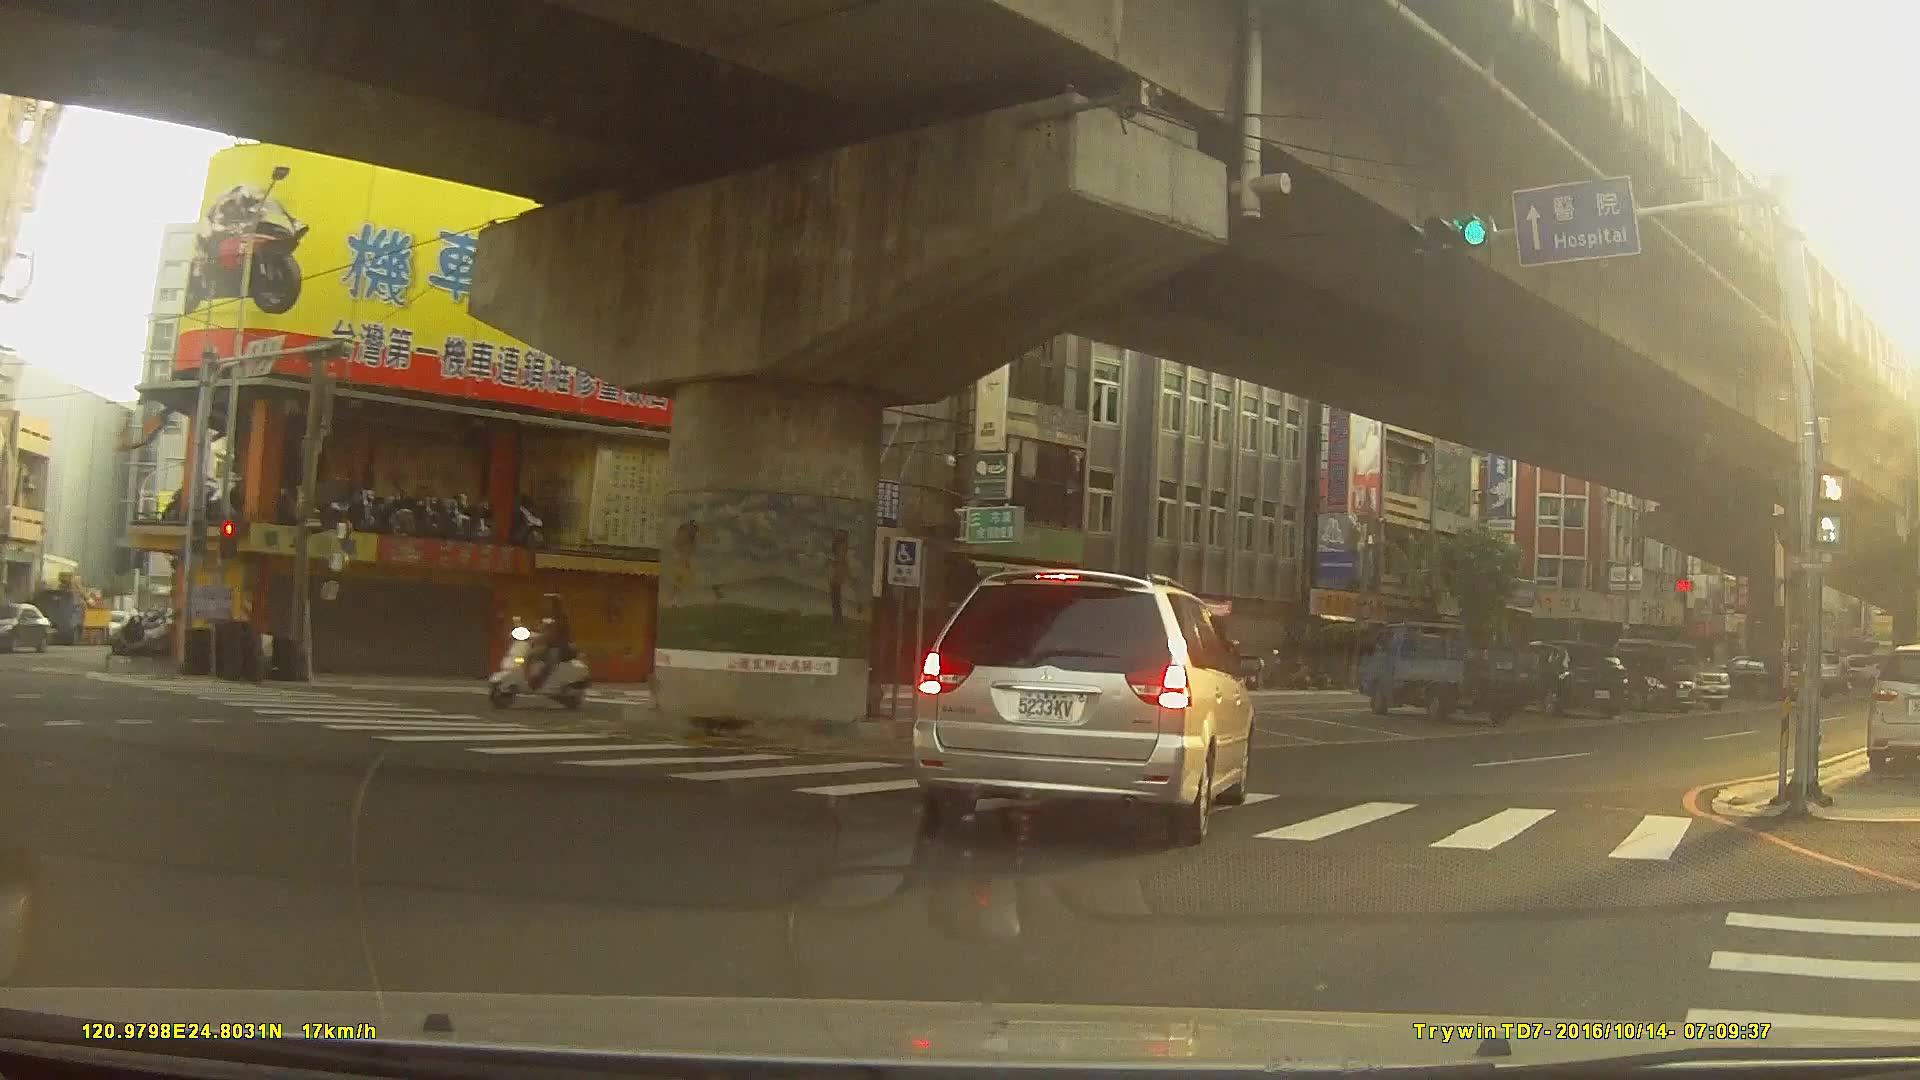rider: (493, 589, 595, 707)
vehicle: (908, 563, 1255, 843), (1350, 619, 1538, 724), (1496, 638, 1629, 719), (1583, 646, 1699, 712), (1865, 641, 1920, 772), (1708, 654, 1783, 694), (0, 598, 52, 654)
